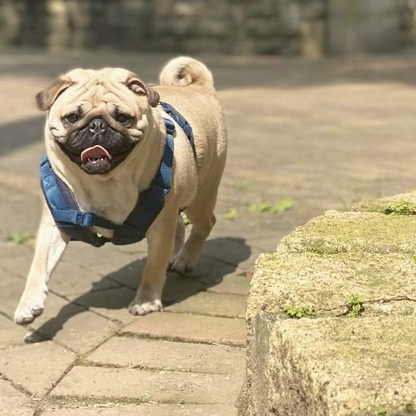Pug: (8, 49, 231, 330)
